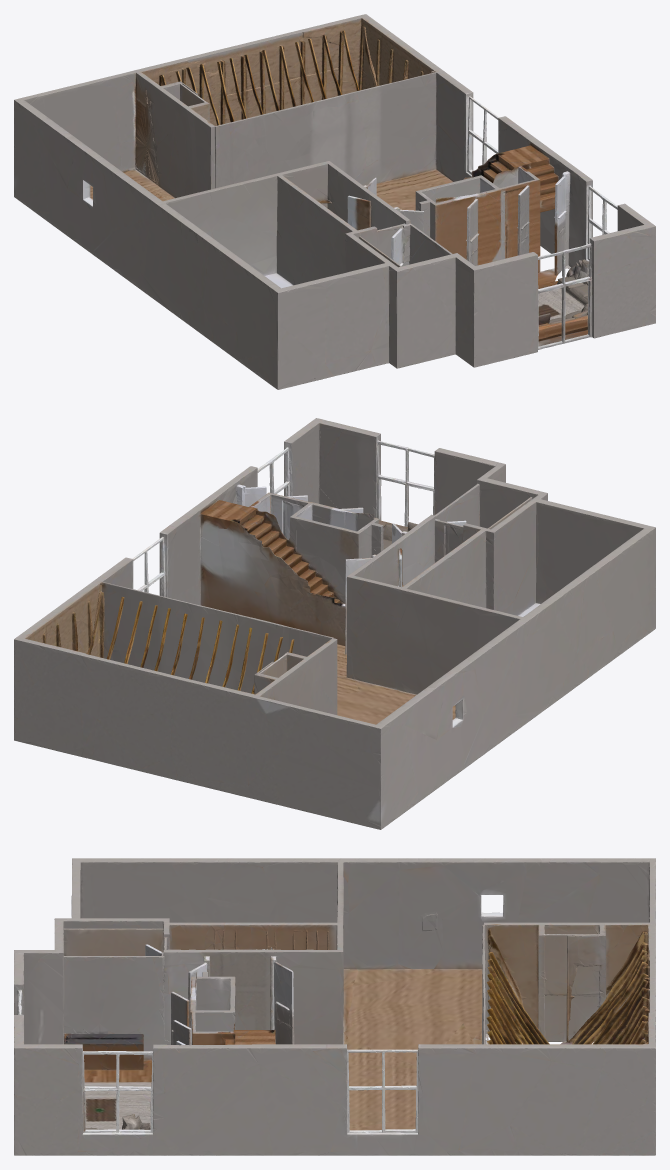
File: myrtle-1.glb
The picture shows the model from 3 angles, top to bottom: view 1: azimuth 30°, elevation 25°; view 2: azimuth 150°, elevation 25°; view 3: azimuth 270°, elevation 25°; orthographic projection. The views are drawn at different scales.
Parts seen in each view (by area): view 1: geometry_0; view 2: geometry_0; view 3: geometry_0.
Boxes of the visible parts, bbox=[...] form: geometry_0: bbox=[14, 14, 655, 389]; geometry_0: bbox=[14, 418, 655, 829]; geometry_0: bbox=[14, 858, 655, 1155].
Bounding box in the file's own units: 10.85 × 3 × 15.48.
1 material, 1 textured.
